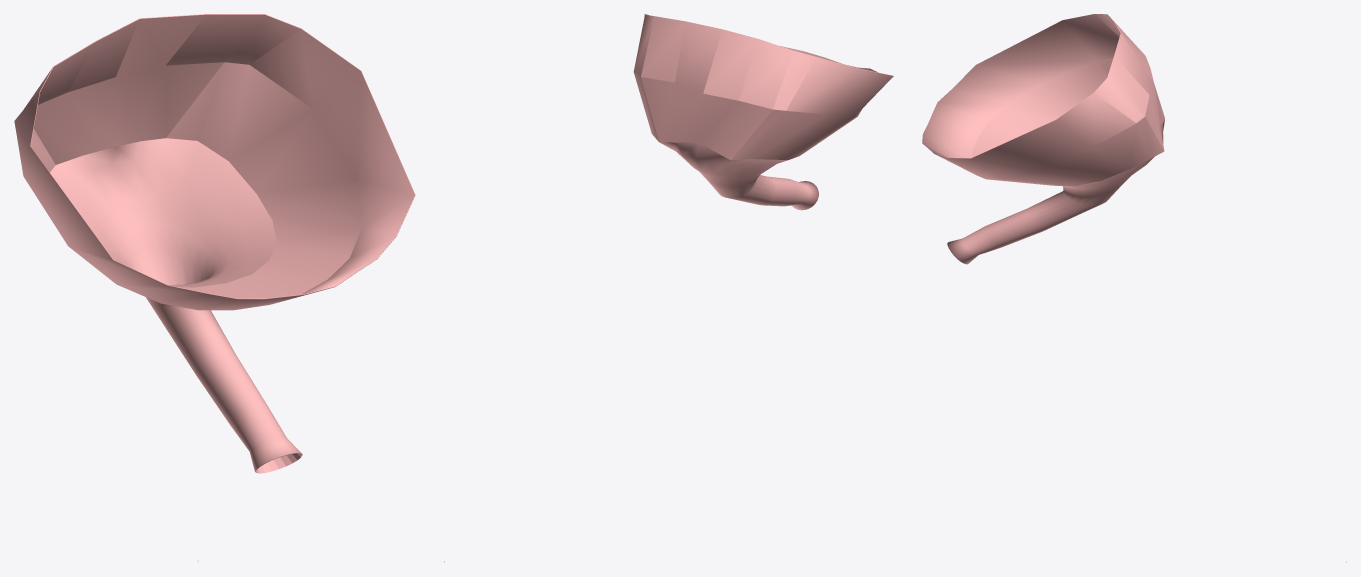
The model's file is uteroanterior.fbx.
3 renders of one model, left to right at view 1: azimuth 30°, elevation 25°; view 2: azimuth 150°, elevation 25°; view 3: azimuth 270°, elevation 25°, orthographic. The views are drawn at different scales.
Visible parts, largest first — view 1: caso_1:vagina1_Mesh; view 2: caso_1:vagina1_Mesh; view 3: caso_1:vagina1_Mesh.
Boxes of the visible parts, x1,y1,x2,y2 form: caso_1:vagina1_Mesh: [14, 14, 415, 473]; caso_1:vagina1_Mesh: [633, 14, 893, 210]; caso_1:vagina1_Mesh: [922, 14, 1164, 264].
Bounding box in the file's own units: 795 × 1408 × 1186.
